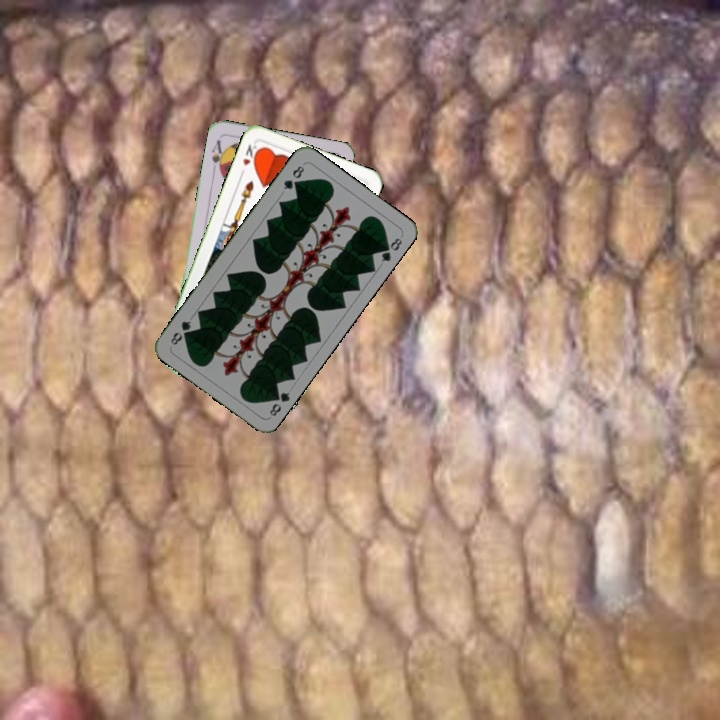G8: (279, 161, 307, 192), (265, 387, 292, 419)
HK: (236, 140, 263, 178)
SA: (207, 136, 228, 176)
